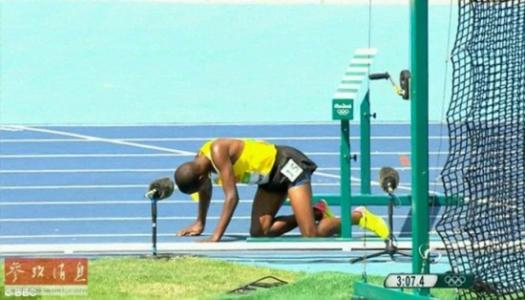fall: (165, 125, 395, 247)
